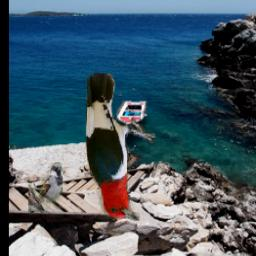Sparrow: (29, 164, 64, 214)
Woodpecker: (85, 74, 156, 222)
